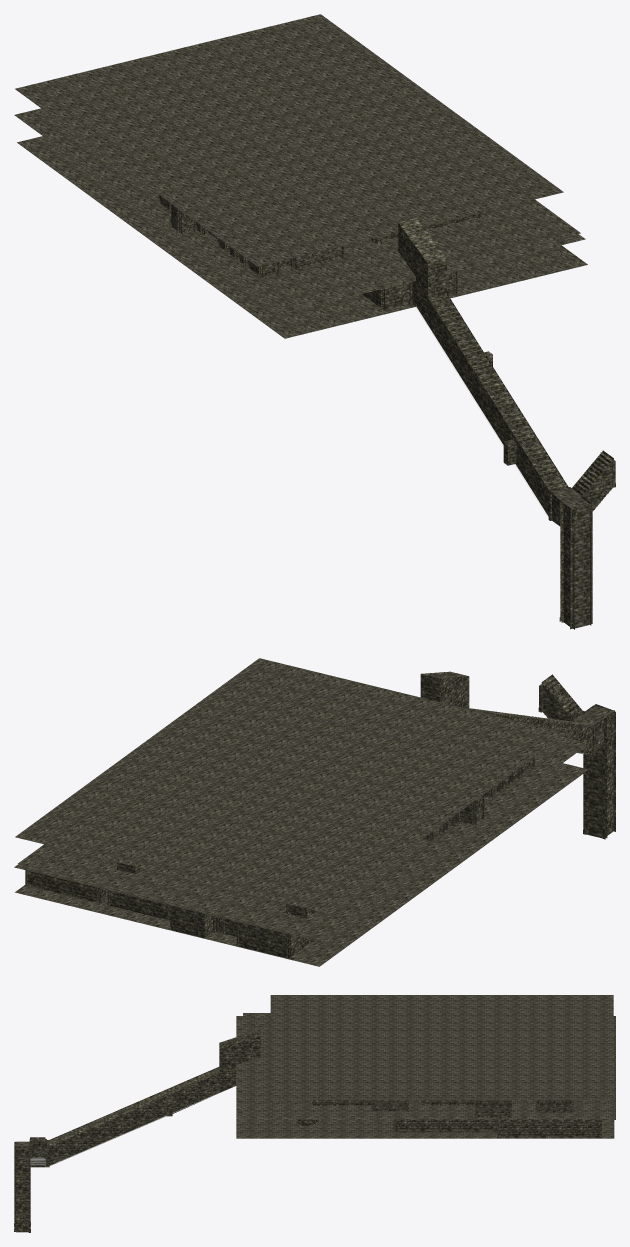
Rendered from 002_zennkiseisaku_meiro2_01_29.fbx.
3 renders of one model, top to bottom at view 1: azimuth 30°, elevation 25°; view 2: azimuth 150°, elevation 25°; view 3: azimuth 270°, elevation 25°, orthographic. The views are drawn at different scales.
Visible parts, largest first — view 1: tenjou_2kai, yuka_2kai, kabe_1kai, yuka_1kai, tenjou_kaidann, hasira, tenjou_1kai; view 2: tenjou_2kai, yuka_2kai, kabe_1kai, yuka_1kai, hasira, tenjou_1kai, tenjou_kaidann2, tenjou_tika1kai; view 3: tenjou_2kai, kabe_1kai, yuka_2kai, yuka_1kai, tenjou_1kai, tenjou_kaidann, hasira.
Part boxes in pixels (x1=…): tenjou_2kai: x1=15, y1=14, x2=563, y2=266; yuka_2kai: x1=14, y1=108, x2=580, y2=307; kabe_1kai: x1=159, y1=195, x2=613, y2=628; yuka_1kai: x1=17, y1=136, x2=587, y2=338; tenjou_kaidann: x1=428, y1=293, x2=567, y2=491; hasira: x1=158, y1=194, x2=592, y2=629; tenjou_1kai: x1=278, y1=234, x2=585, y2=312; tenjou_2kai: x1=15, y1=658, x2=566, y2=912; yuka_2kai: x1=18, y1=738, x2=586, y2=938; kabe_1kai: x1=27, y1=671, x2=614, y2=958; yuka_1kai: x1=15, y1=763, x2=588, y2=966; hasira: x1=25, y1=710, x2=615, y2=958; tenjou_1kai: x1=14, y1=737, x2=588, y2=941; tenjou_kaidann2: x1=541, y1=677, x2=582, y2=719; tenjou_tika1kai: x1=572, y1=706, x2=614, y2=725; tenjou_2kai: x1=270, y1=995, x2=613, y2=1100; kabe_1kai: x1=15, y1=1029, x2=600, y2=1232; yuka_2kai: x1=243, y1=1013, x2=613, y2=1117; yuka_1kai: x1=236, y1=1119, x2=614, y2=1138; tenjou_1kai: x1=236, y1=1016, x2=615, y2=1119; tenjou_kaidann: x1=49, y1=1068, x2=219, y2=1145; hasira: x1=14, y1=1100, x2=601, y2=1232.
Bounding box in the file's own units: 973 × 847 × 2346.
